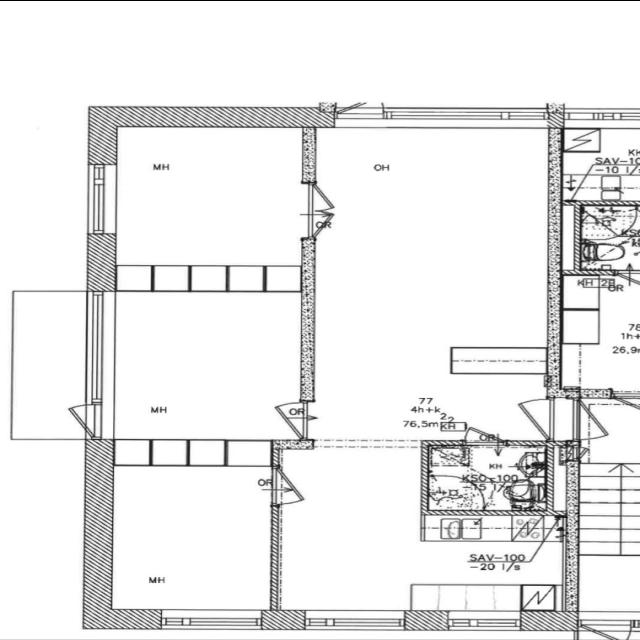door: (264, 463, 309, 509), (515, 397, 560, 442), (574, 396, 613, 444), (273, 393, 315, 437), (72, 399, 117, 437), (299, 210, 341, 242), (303, 180, 341, 214)
window: (319, 99, 563, 129), (75, 286, 111, 405), (156, 603, 268, 635), (78, 157, 122, 235), (302, 606, 414, 634), (561, 98, 640, 132), (442, 607, 526, 635)
